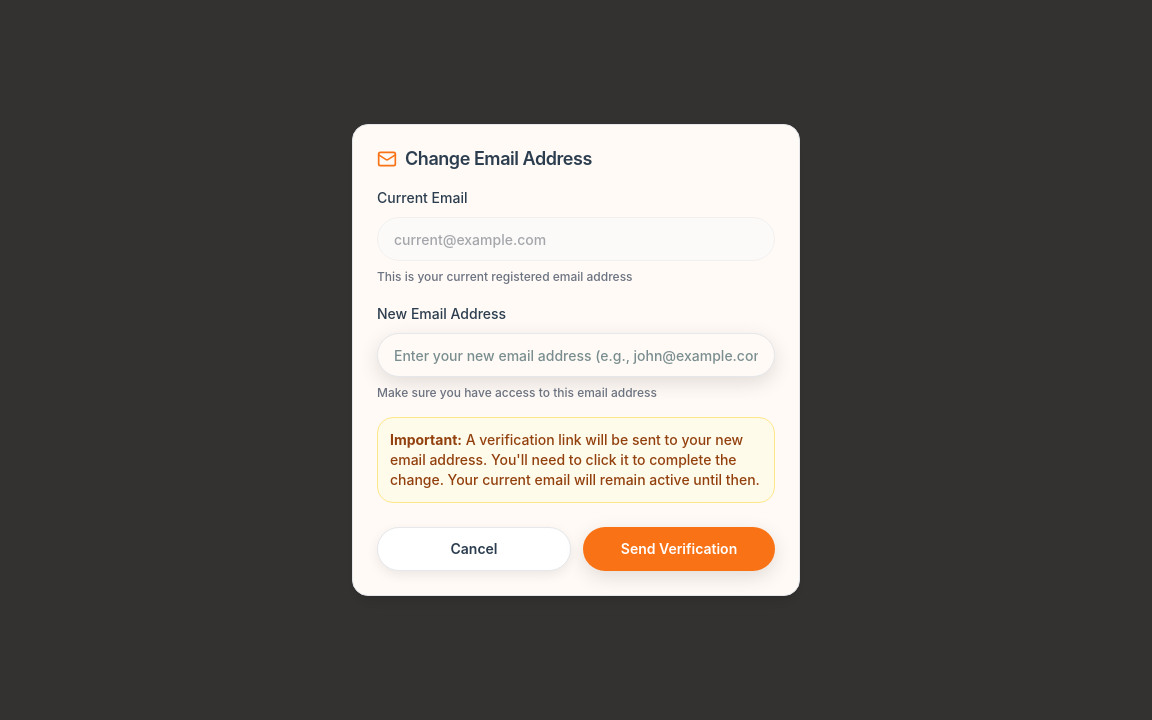
Test: EmailChangeDialog › shows validation error for same email
Step 1. Type "current@example.com" into the field with placeholder "Enter your new email address (e.g., john@example.com)" → (576, 355), box 377,333 -> 775,377
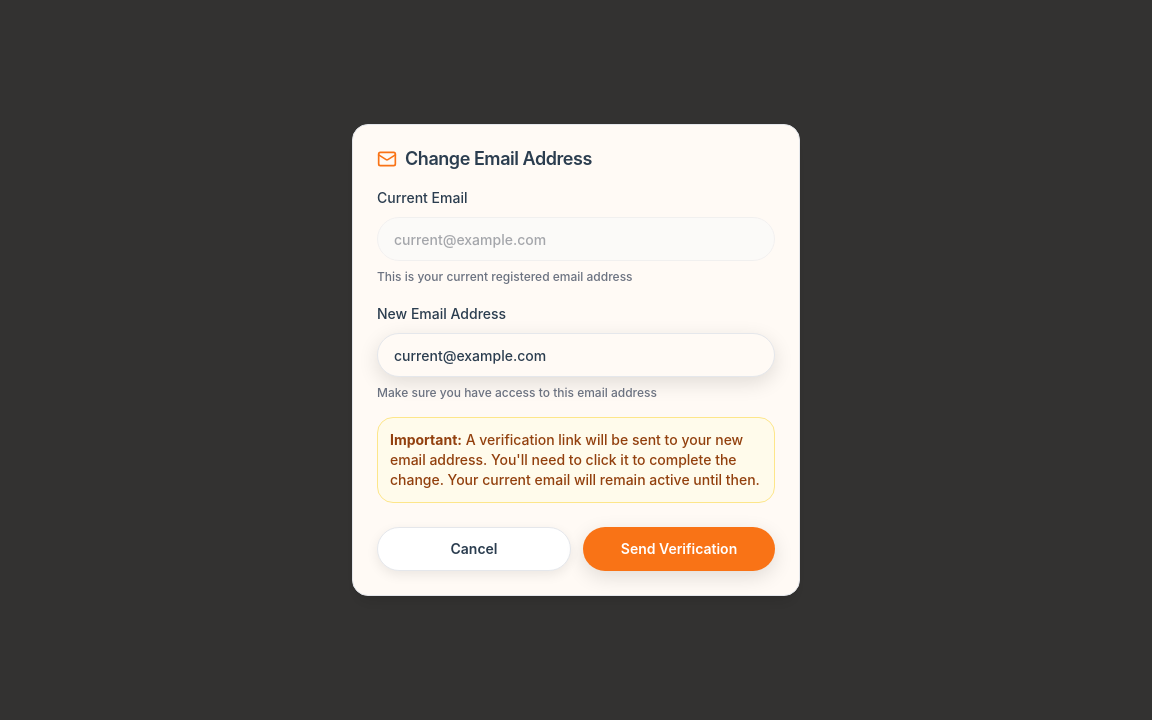
Step 2. Click the button "Send Verification" → (679, 549), box 583,527 -> 775,571
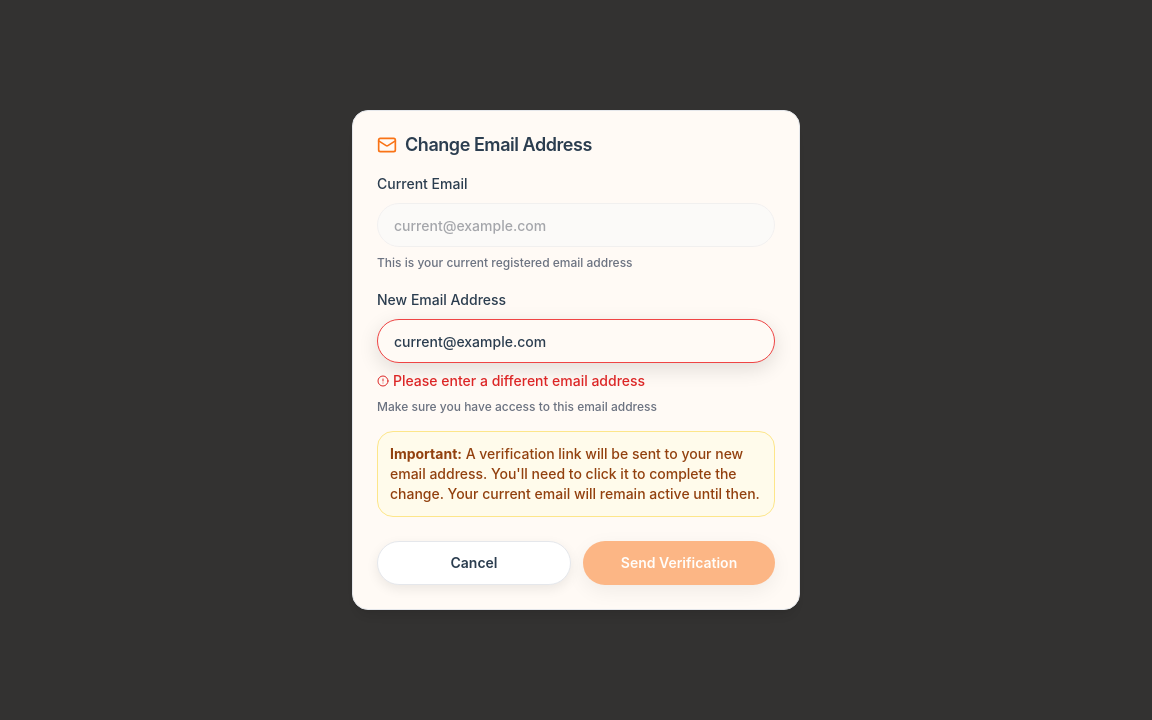
Now the text "Please enter a different email address" is shown, box 393,371 -> 645,391
